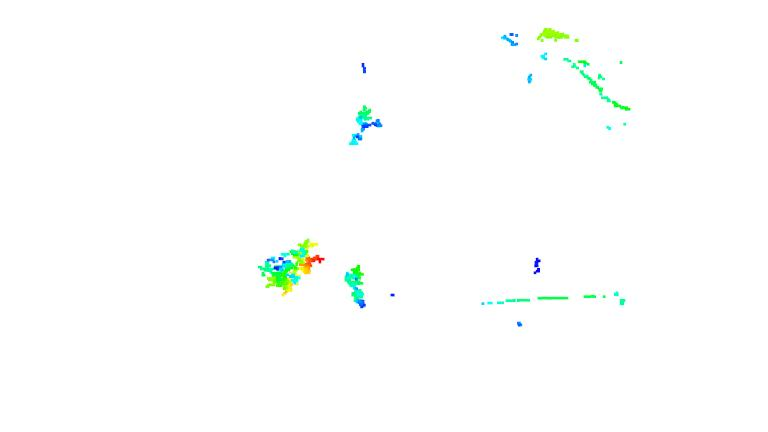chickpea: (250, 239, 326, 299), (341, 104, 386, 152), (337, 264, 372, 312)
